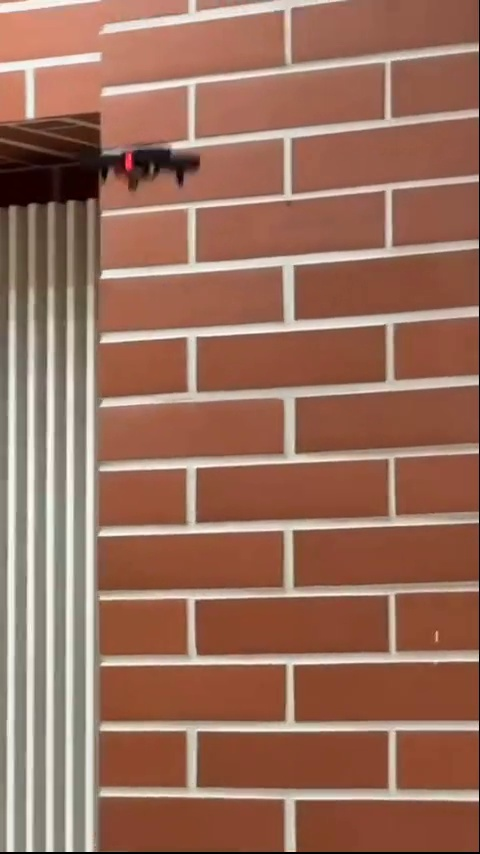drone: (88, 142, 202, 185)
